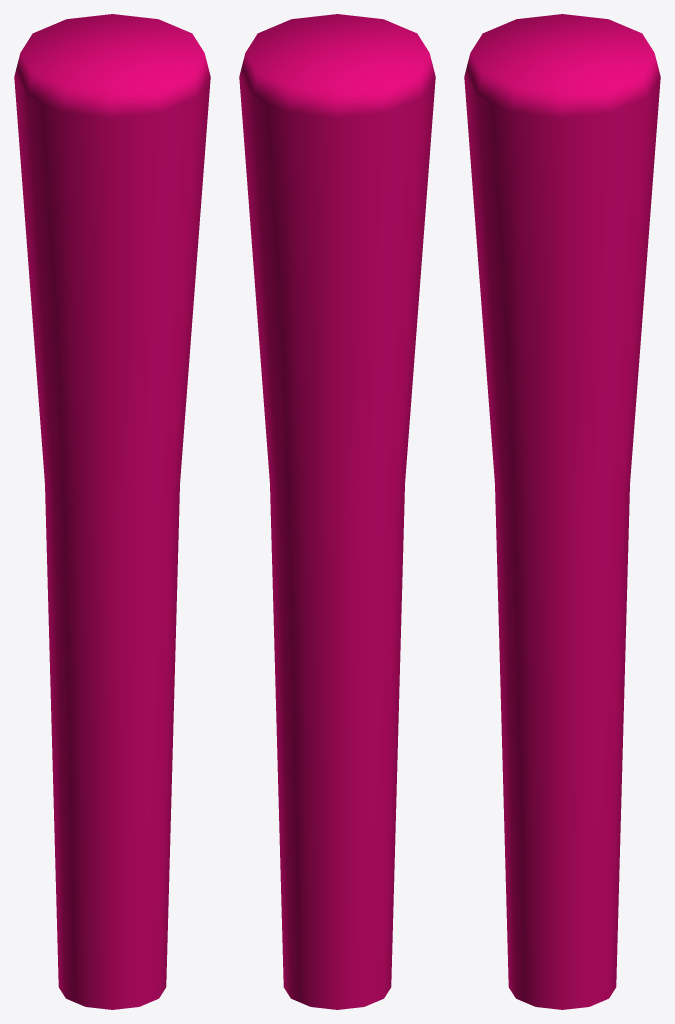
The model's file is Torch_01.fbx.
The picture shows the model from 3 angles, left to right: view 1: azimuth 30°, elevation 25°; view 2: azimuth 150°, elevation 25°; view 3: azimuth 270°, elevation 25°; orthographic projection.
Parts seen in each view (by area): view 1: Torch_01; view 2: Torch_01; view 3: Torch_01.
Boxes of the visible parts, x1=… form: Torch_01: x1=14, y1=14, x2=210, y2=1009; Torch_01: x1=239, y1=14, x2=435, y2=1009; Torch_01: x1=464, y1=14, x2=660, y2=1009.
Size of the model in its own units: 11.91 by 62.46 by 11.91.
